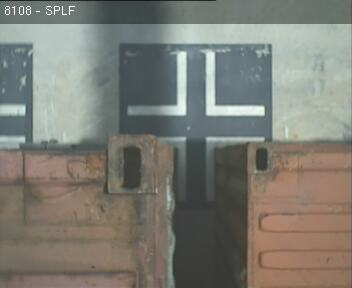groundmarker_1: (126, 50, 263, 115), (157, 138, 264, 201)
